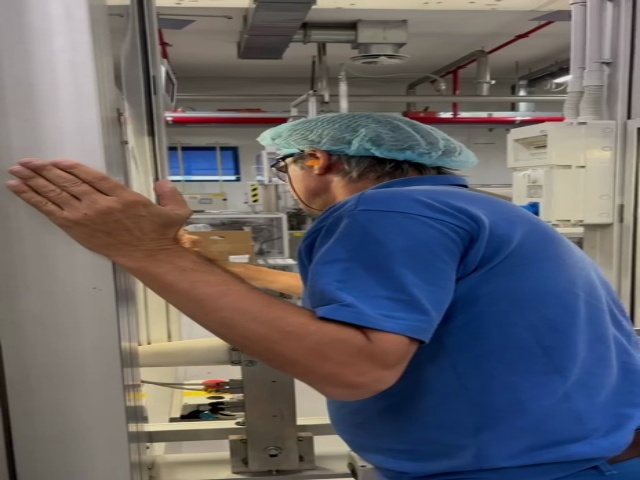Earplug: (304, 151, 328, 174)
Hairnet: (262, 112, 480, 170)
No_Helmet: (262, 113, 481, 167)
No_Vest: (301, 191, 635, 464)
Person: (8, 112, 640, 480)
Safety_Goggles: (270, 146, 310, 180)
